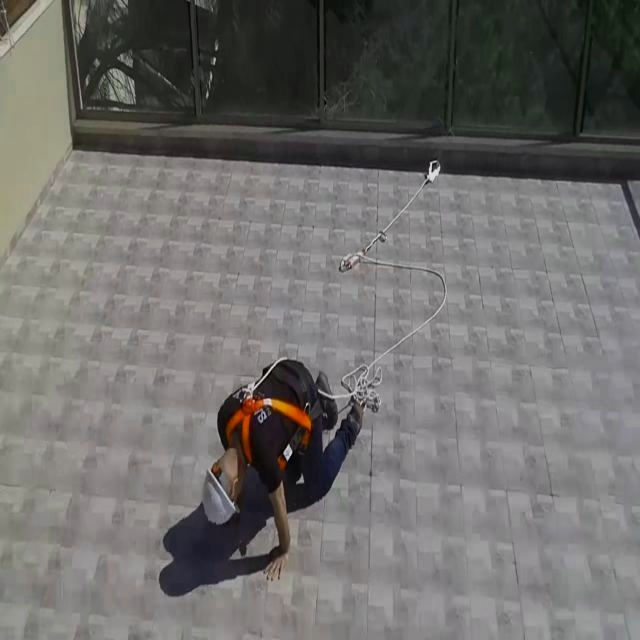safety belt: (195, 384, 317, 472)
